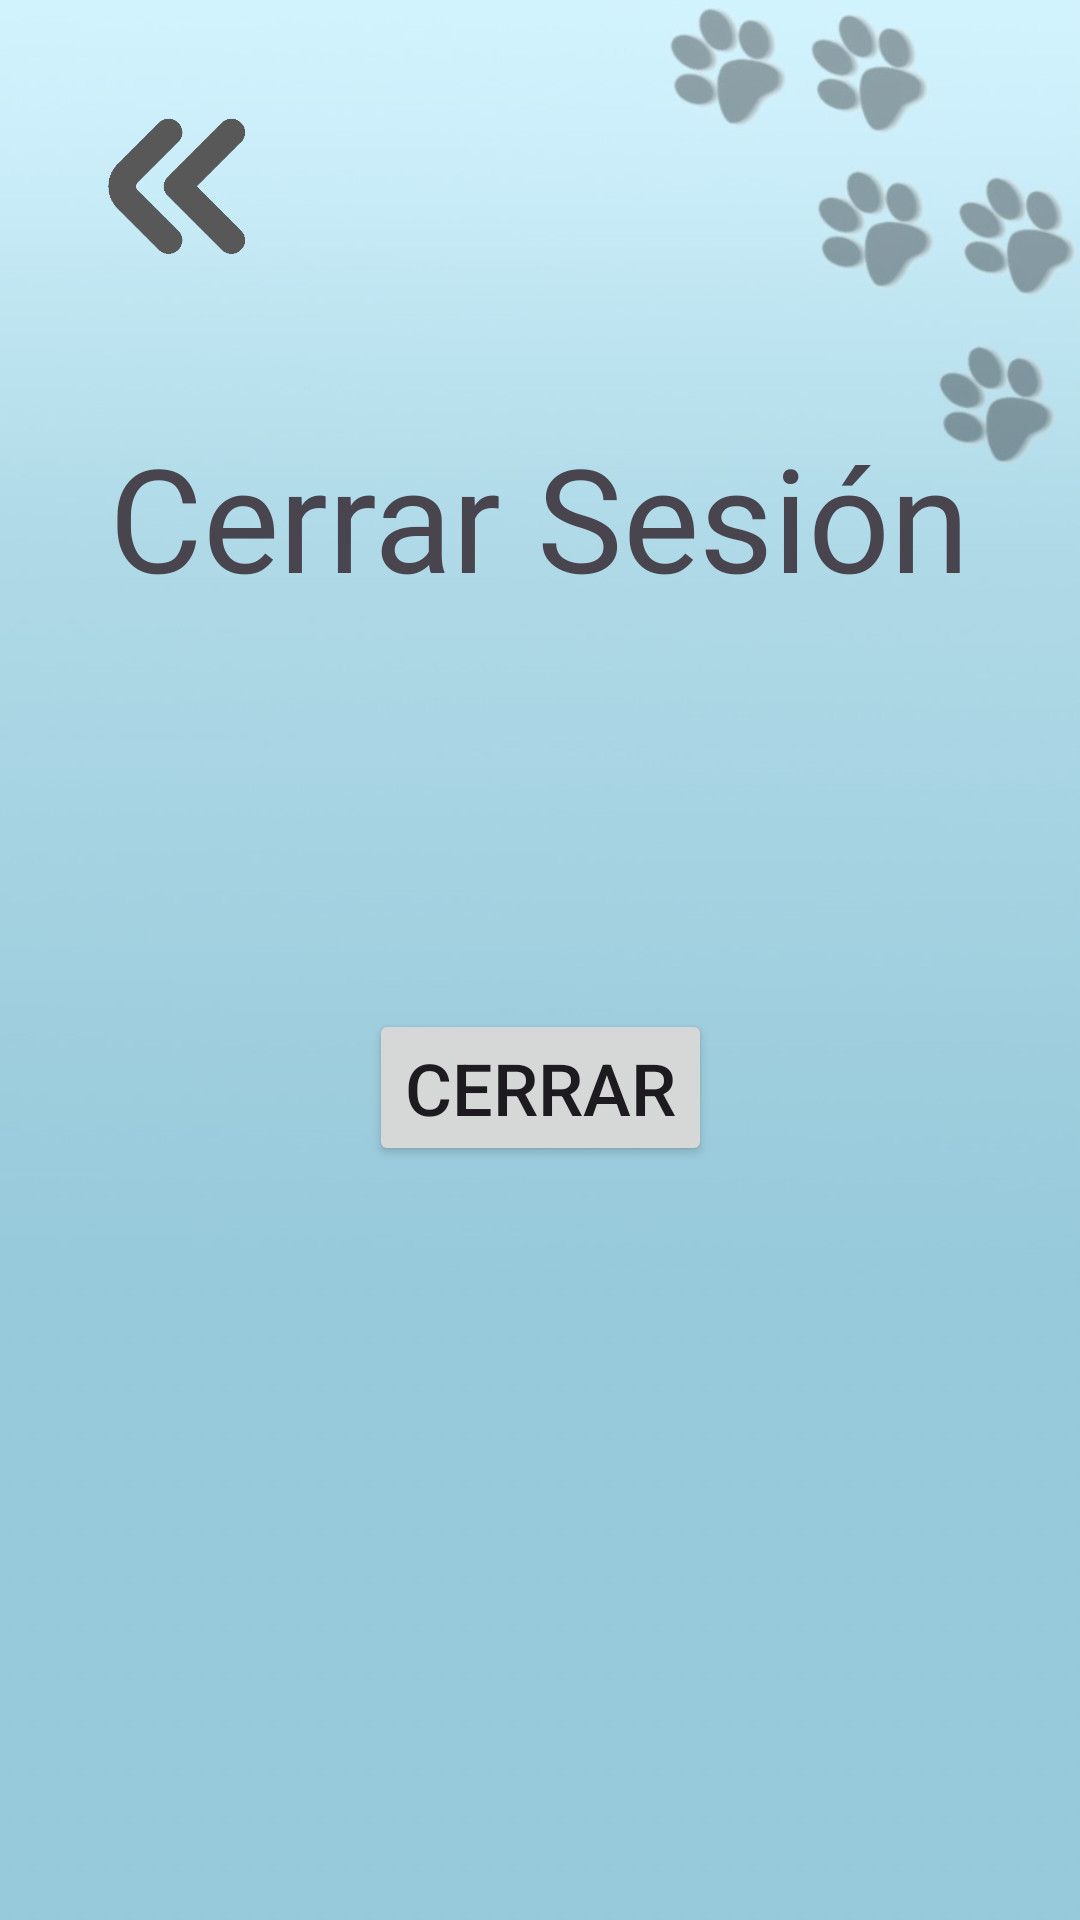

Where icons sit on this 1080w x 1920h app screen, as (x1, y1, x2, y2):
regresar: (108, 119, 245, 254)
